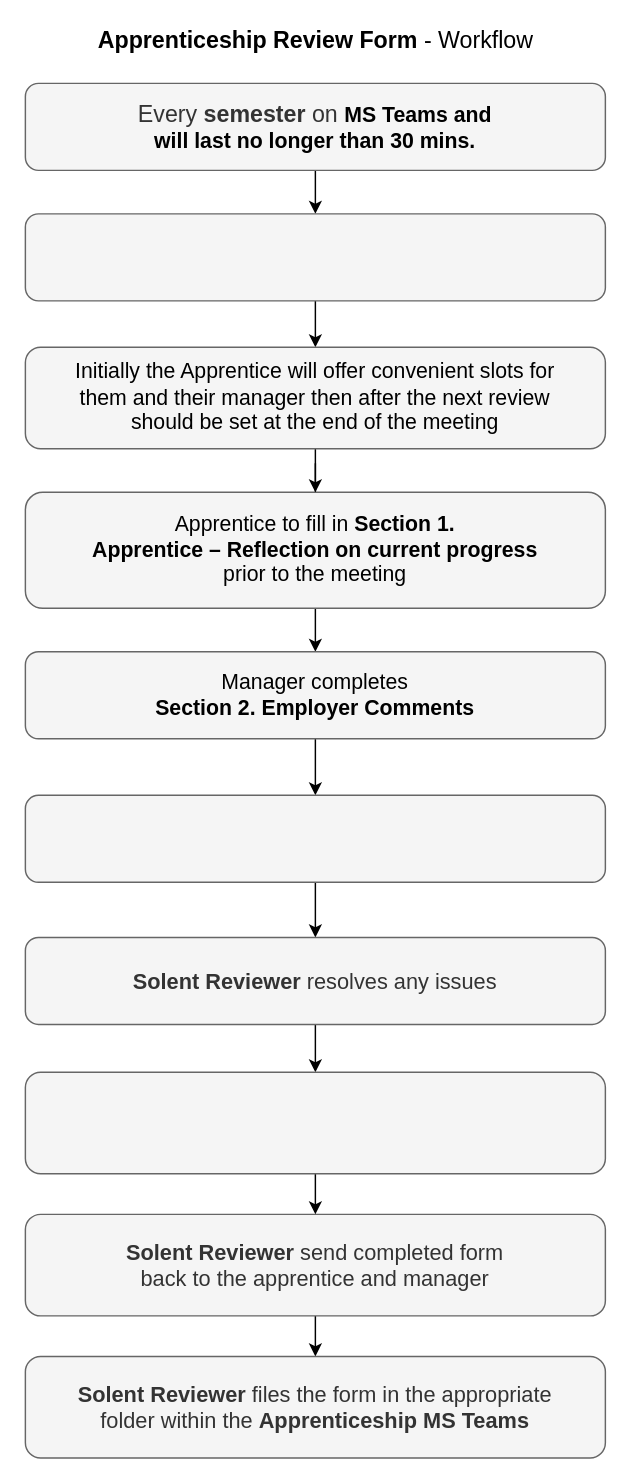
This 631x1483 diagram has some shape labels left out. The shapes that lost their labels are listed below. From the top down, each one's centre as x and y in pixels, then its label:
At [314,256]: "With Solent Reviewer, Apprentice and their Manager".
At [314,838]: "Manager sends form back to the Solent Reviewer".
At [314,1122]: "Solent Reviewer completes Section 3 - Update & Summary".
